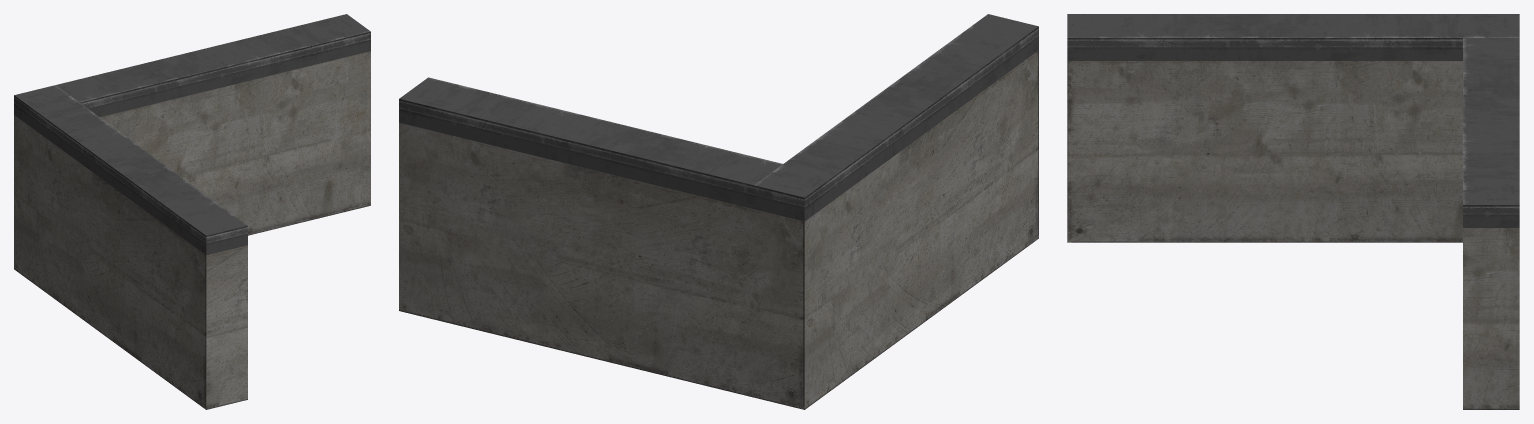
The model's file is CP_Parapet_F_Angle_Out.fbx.
The picture shows the model from 3 angles, left to right: view 1: azimuth 30°, elevation 25°; view 2: azimuth 150°, elevation 25°; view 3: azimuth 270°, elevation 25°; orthographic projection. The views are drawn at different scales.
Parts seen in each view (by area): view 1: CP_Parapet_F_Angle_Out; view 2: CP_Parapet_F_Angle_Out; view 3: CP_Parapet_F_Angle_Out.
Boxes of the visible parts, left/top/right/bottom form: CP_Parapet_F_Angle_Out: left=14, top=14, right=370, bottom=409; CP_Parapet_F_Angle_Out: left=399, top=14, right=1038, bottom=409; CP_Parapet_F_Angle_Out: left=1067, top=14, right=1519, bottom=409.
Bounding box in the file's own units: 200 × 100 × 200.
